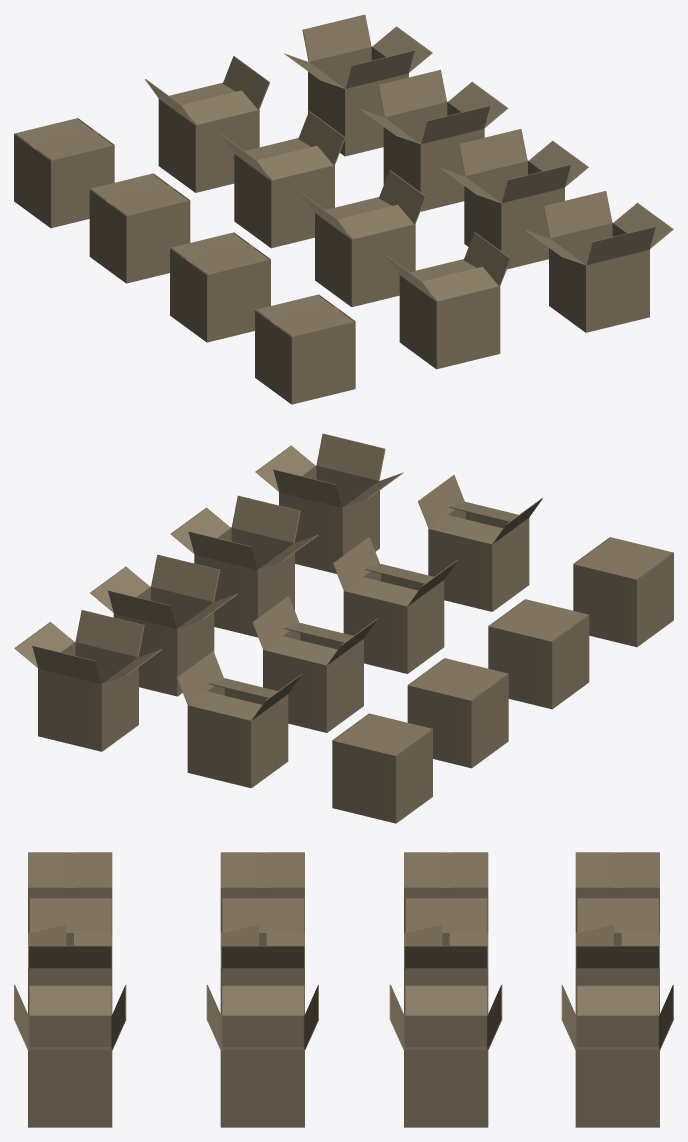
The model's file is Cajas.fbx.
3 renders of one model, top to bottom at view 1: azimuth 30°, elevation 25°; view 2: azimuth 150°, elevation 25°; view 3: azimuth 270°, elevation 25°, orthographic. The views are drawn at different scales.
Visible parts, largest first — view 1: caja_abierta, caja_abierta1, caja_abierta2, Caja_semiabierta, caja_abierta3, Caja_semiabierta1, Caja_semiabierta2, Caja_semiabierta3, Caja_cerrada, Caja_cerrada1, Caja_cerrada2, Caja_cerrada3; view 2: caja_abierta3, caja_abierta, caja_abierta1, Caja_semiabierta3, caja_abierta2, Caja_semiabierta, Caja_semiabierta1, Caja_semiabierta2, Caja_cerrada3, Caja_cerrada, Caja_cerrada1, Caja_cerrada2; view 3: caja_abierta2, caja_abierta1, caja_abierta, caja_abierta3, Caja_semiabierta1, Caja_semiabierta2, Caja_semiabierta, Caja_semiabierta3, Caja_cerrada, Caja_cerrada3, Caja_cerrada1, Caja_cerrada2.
Part boxes in pixels (x1=…): caja_abierta: x1=525, y1=191, x2=673, y2=332; caja_abierta1: x1=440, y1=129, x2=588, y2=269; caja_abierta2: x1=360, y1=69, x2=508, y2=211; Caja_semiabierta: x1=386, y1=232, x2=510, y2=369; caja_abierta3: x1=284, y1=14, x2=432, y2=156; Caja_semiabierta1: x1=301, y1=170, x2=426, y2=306; Caja_semiabierta2: x1=220, y1=111, x2=345, y2=248; Caja_semiabierta3: x1=145, y1=56, x2=269, y2=192; Caja_cerrada: x1=255, y1=294, x2=355, y2=404; Caja_cerrada1: x1=170, y1=232, x2=270, y2=342; Caja_cerrada2: x1=89, y1=173, x2=190, y2=283; Caja_cerrada3: x1=14, y1=118, x2=114, y2=228; caja_abierta3: x1=14, y1=610, x2=162, y2=751; caja_abierta: x1=255, y1=433, x2=403, y2=573; caja_abierta1: x1=170, y1=495, x2=318, y2=637; Caja_semiabierta3: x1=177, y1=651, x2=301, y2=788; caja_abierta2: x1=90, y1=554, x2=237, y2=696; Caja_semiabierta: x1=418, y1=475, x2=542, y2=611; Caja_semiabierta1: x1=333, y1=537, x2=458, y2=673; Caja_semiabierta2: x1=252, y1=596, x2=377, y2=732; Caja_cerrada3: x1=332, y1=713, x2=432, y2=823; Caja_cerrada: x1=573, y1=537, x2=673, y2=647; Caja_cerrada1: x1=488, y1=599, x2=589, y2=709; Caja_cerrada2: x1=407, y1=658, x2=508, y2=768; caja_abierta2: x1=389, y1=984, x2=502, y2=1127; caja_abierta1: x1=206, y1=984, x2=318, y2=1127; caja_abierta: x1=14, y1=984, x2=126, y2=1127; caja_abierta3: x1=561, y1=984, x2=673, y2=1127; Caja_semiabierta1: x1=220, y1=898, x2=304, y2=1015; Caja_semiabierta2: x1=404, y1=898, x2=488, y2=1014; Caja_semiabierta: x1=28, y1=898, x2=112, y2=1015; Caja_semiabierta3: x1=575, y1=898, x2=659, y2=1015; Caja_cerrada: x1=28, y1=852, x2=112, y2=932; Caja_cerrada3: x1=575, y1=852, x2=659, y2=932; Caja_cerrada1: x1=220, y1=852, x2=304, y2=932; Caja_cerrada2: x1=404, y1=852, x2=488, y2=932.
Bounding box in the file's own units: 6.07 × 1.44 × 7.98.
